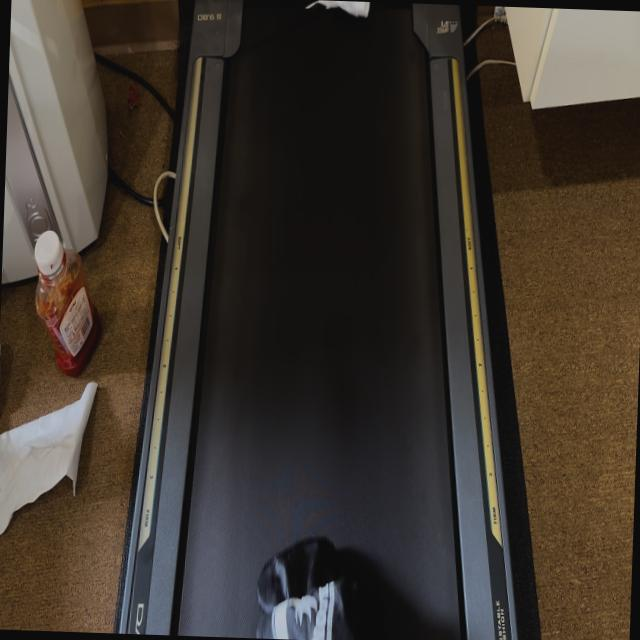Trash: (253, 529, 350, 640)
